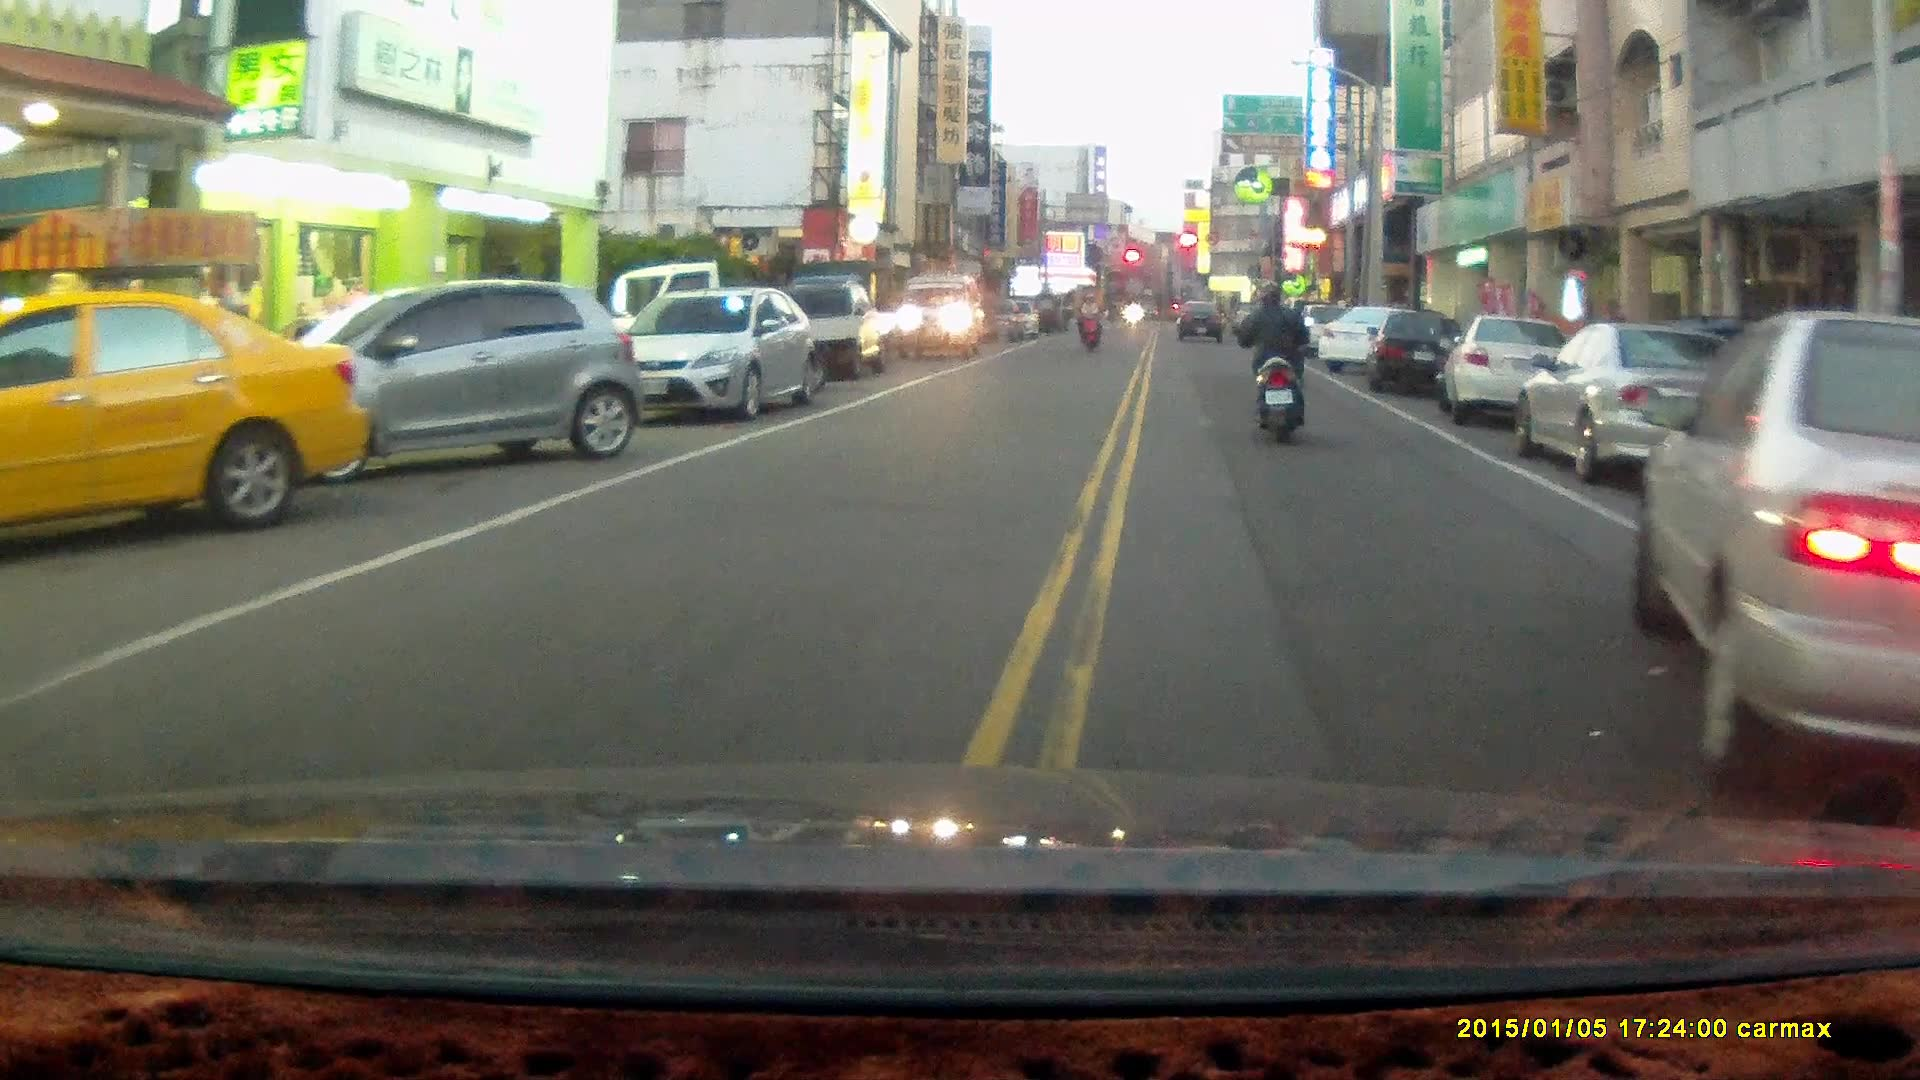rider: (1233, 278, 1307, 445), (1074, 290, 1103, 352)
vehicle: (1630, 307, 1920, 802), (1, 288, 369, 545), (255, 276, 642, 479), (1518, 317, 1747, 485), (609, 284, 827, 422), (764, 278, 904, 377), (1442, 316, 1570, 425), (902, 274, 985, 362)
